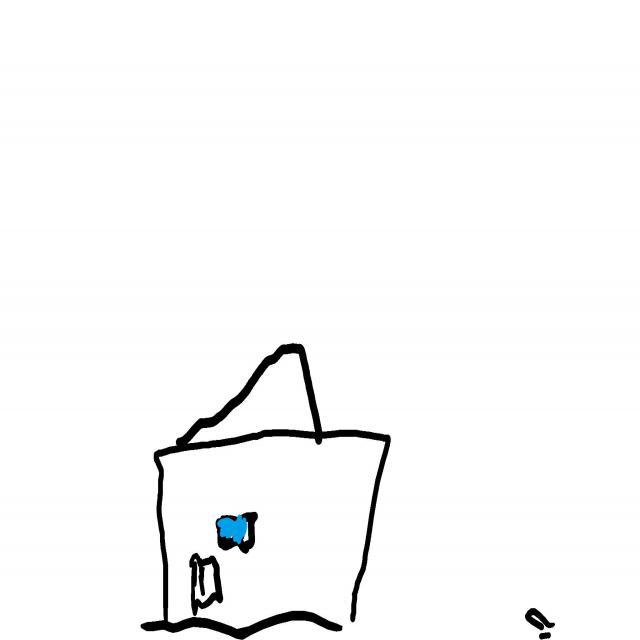door: (190, 555, 223, 617)
house: (141, 345, 391, 640)
roof: (194, 356, 312, 442)
wall: (155, 431, 390, 633)
window: (218, 514, 256, 555)
